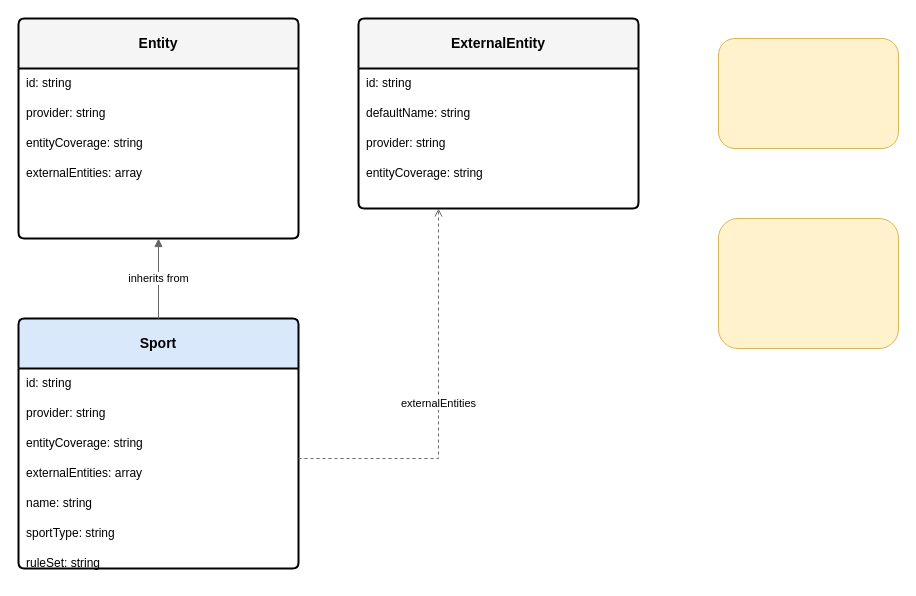
This 916x596 diagram has some shape labels left out. Here are the shapes that lost their labels. From the top down, the centre of each, then its label:
At [808,93]: "EntityCoverage enum COVERED NOT_COVERED TEMPORARY".
At [808,283]: "SportType enum AMERICAN FOOTBALL BIATHLON CURLING DARTS FOOTBALL".
